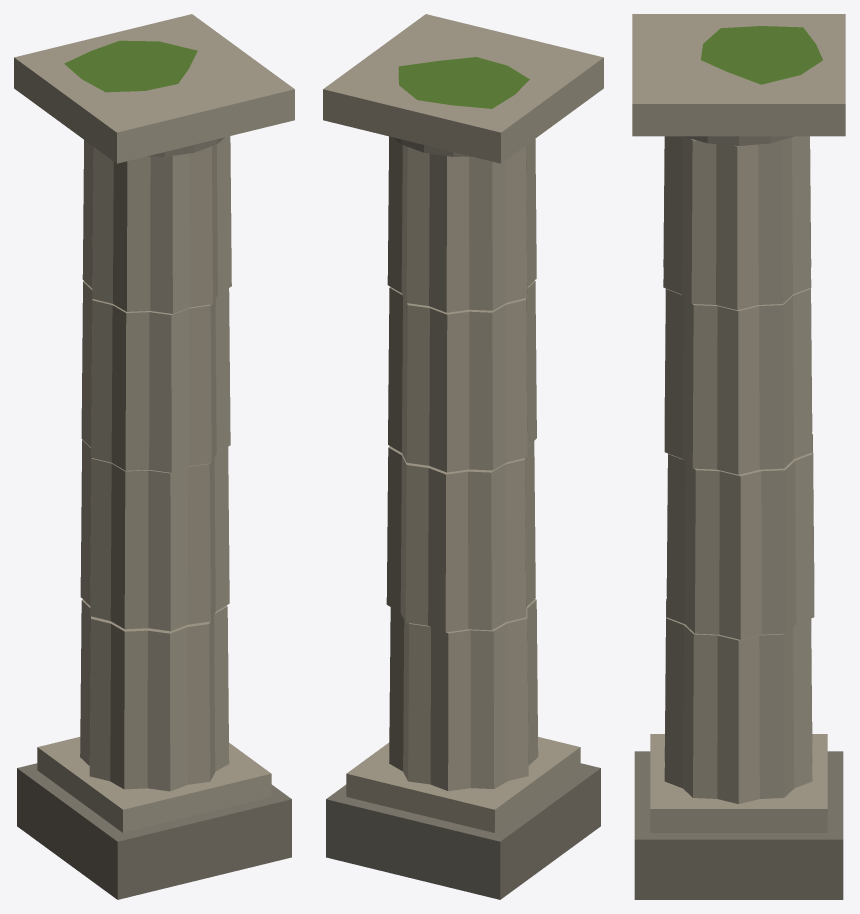
File: Pillar.glb
The picture shows the model from 3 angles, left to right: view 1: azimuth 30°, elevation 25°; view 2: azimuth 150°, elevation 25°; view 3: azimuth 270°, elevation 25°; orthographic projection. The views are drawn at different scales.
Visible parts, largest first — view 1: Pillar.stone, Pillar.stoneDark, Pillar.moss; view 2: Pillar.stone, Pillar.stoneDark, Pillar.moss; view 3: Pillar.stone, Pillar.stoneDark, Pillar.moss.
Part boxes in pixels (bbox=[...]): Pillar.stone: bbox=[14, 14, 294, 832]; Pillar.stoneDark: bbox=[17, 137, 291, 899]; Pillar.moss: bbox=[64, 40, 197, 92]; Pillar.stone: bbox=[323, 14, 603, 832]; Pillar.stoneDark: bbox=[326, 137, 600, 899]; Pillar.moss: bbox=[398, 57, 529, 108]; Pillar.stone: bbox=[632, 14, 845, 832]; Pillar.stoneDark: bbox=[634, 136, 843, 899]; Pillar.moss: bbox=[701, 26, 822, 84].
Bounding box in the file's own units: 4.8 × 19.87 × 4.8.
